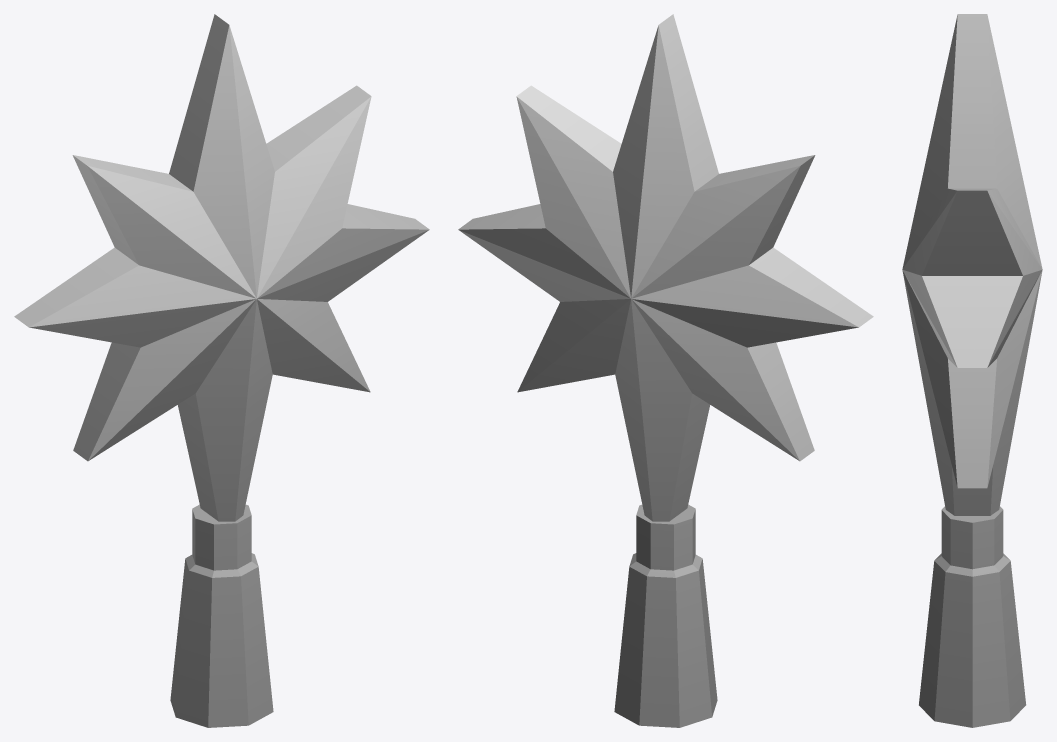
File: star bethlehem.fbx
3 renders of one model, left to right at view 1: azimuth 30°, elevation 25°; view 2: azimuth 150°, elevation 25°; view 3: azimuth 270°, elevation 25°, orthographic.
Visible parts, largest first — view 1: star bethlehem; view 2: star bethlehem; view 3: star bethlehem.
Part boxes in pixels (x1,y1,x2,y2): star bethlehem: (14,14,429,727); star bethlehem: (458,14,873,727); star bethlehem: (902,14,1042,727).
Size of the model in its own units: 61.53 by 101 by 18.51.
